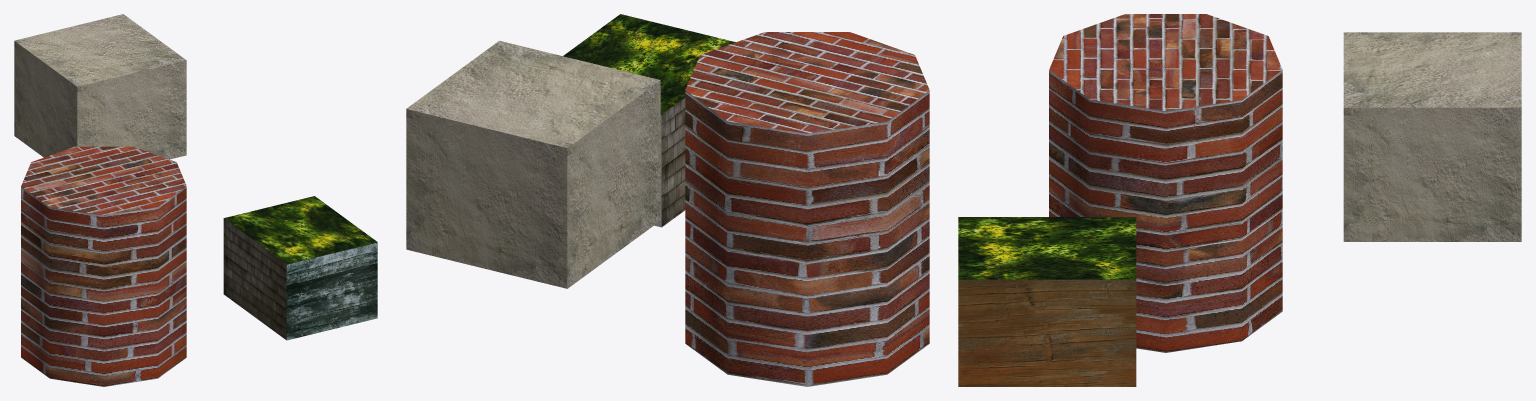
File: boxes.fbx
The picture shows the model from 3 angles, left to right: view 1: azimuth 30°, elevation 25°; view 2: azimuth 150°, elevation 25°; view 3: azimuth 270°, elevation 25°; orthographic projection. The views are drawn at different scales.
Parts seen in each view (by area): view 1: Cylinder01, Box03, Box02; view 2: Cylinder01, Box03, Box02; view 3: Cylinder01, Box03, Box02.
Part boxes in pixels (bbox=[...]): Cylinder01: bbox=[21, 146, 186, 386]; Box03: bbox=[14, 14, 186, 159]; Box02: bbox=[223, 196, 377, 340]; Cylinder01: bbox=[685, 32, 929, 386]; Box03: bbox=[406, 40, 660, 288]; Box02: bbox=[563, 14, 735, 227]; Cylinder01: bbox=[1049, 14, 1282, 352]; Box03: bbox=[1343, 32, 1521, 241]; Box02: bbox=[958, 217, 1136, 386].
Size of the model in its own units: 148 by 110 by 190.
